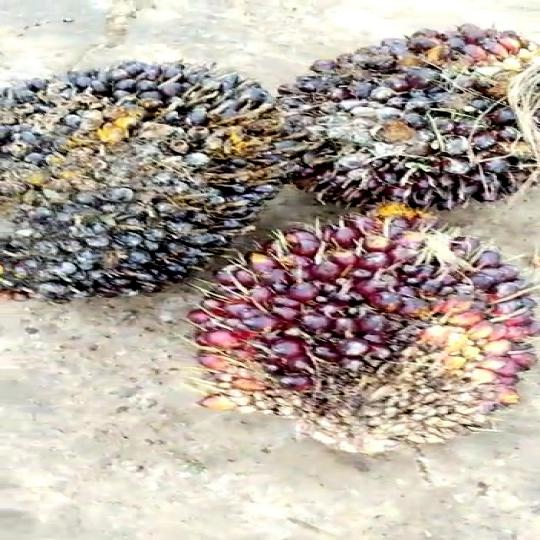kurang masak: (178, 216, 540, 461), (0, 46, 287, 310), (265, 19, 540, 219)
